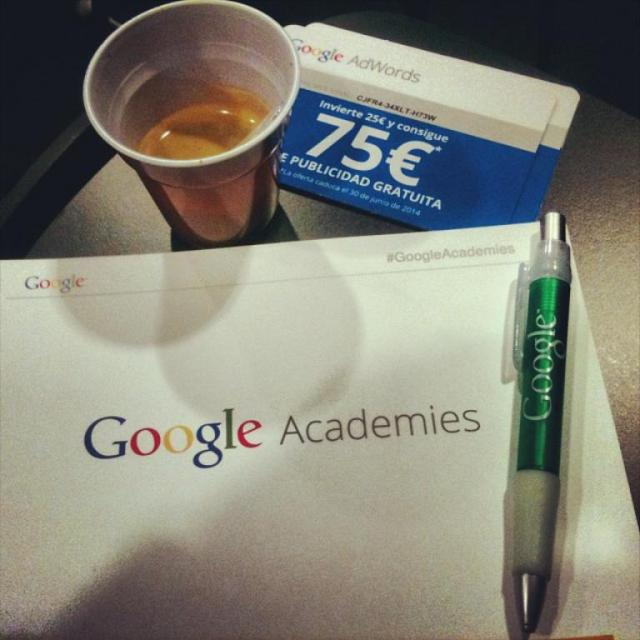Tea: (128, 94, 268, 156)
